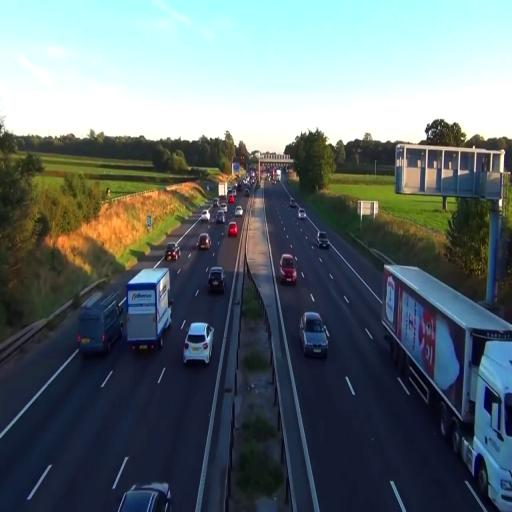vehicle: (381, 261, 512, 509), (124, 263, 172, 353), (77, 292, 125, 358), (116, 480, 171, 512), (182, 321, 214, 368), (300, 310, 329, 359), (278, 252, 298, 285), (163, 244, 181, 273), (207, 266, 225, 294), (164, 244, 180, 262), (317, 232, 330, 249), (214, 208, 227, 224), (198, 234, 211, 250)
